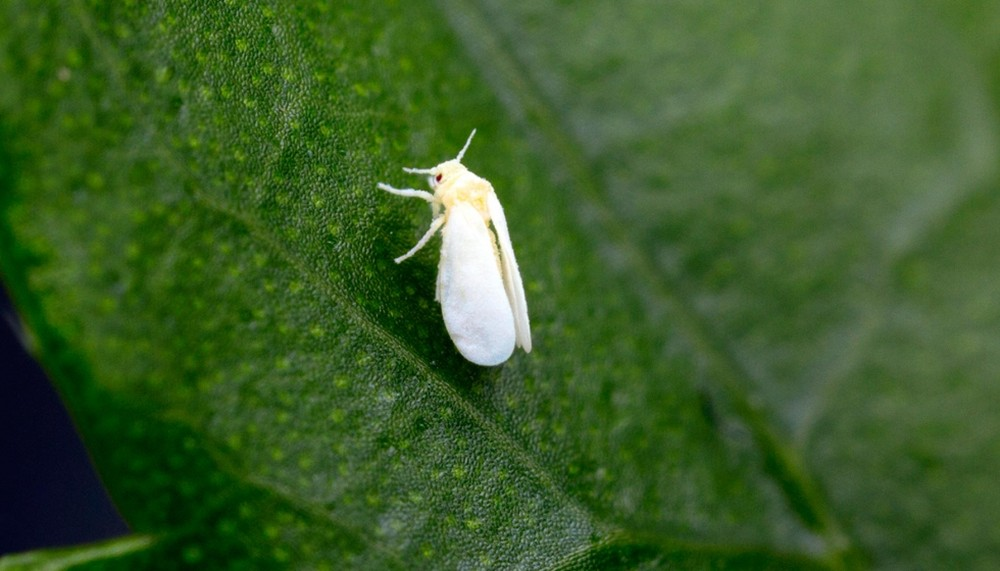Mosca Blanca: (366, 127, 553, 380)
